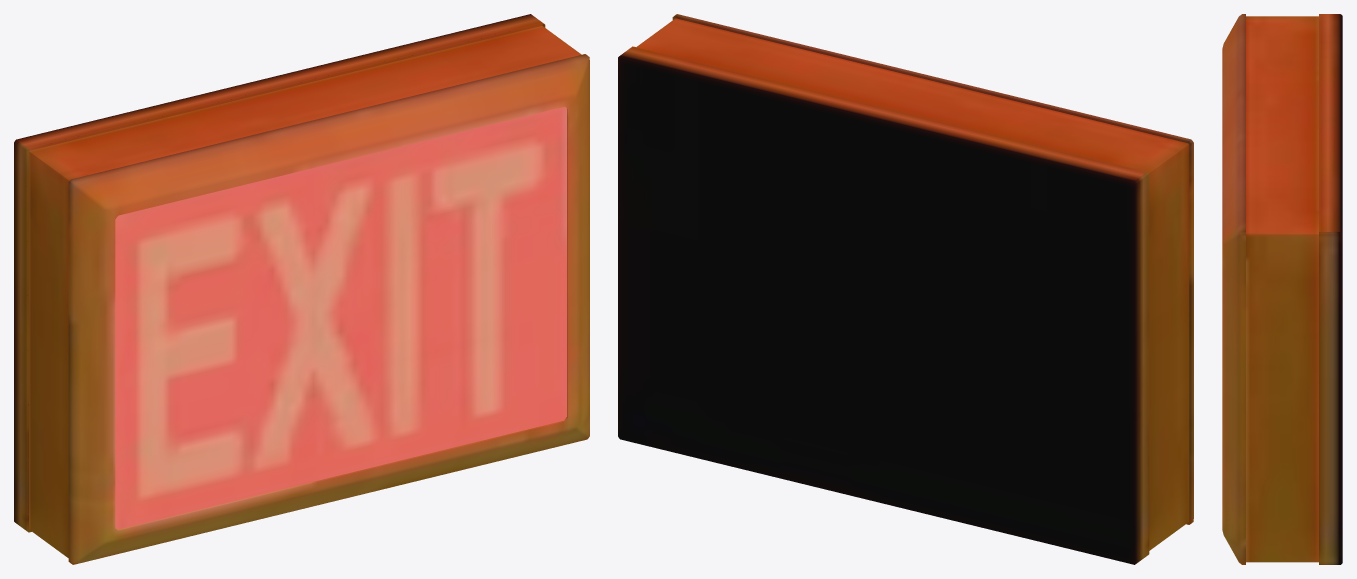
Rendered from exit.glb.
3 views of the same model, side by side, from view 1: azimuth 30°, elevation 25°; view 2: azimuth 150°, elevation 25°; view 3: azimuth 270°, elevation 25° (orthographic). The views are drawn at different scales.
Parts seen in each view (by area): view 1: Object_62, Object_60.002, Object_60.016, Object_60, Object_60.015, Object_60.013, Object_60.004; view 2: Object_60, Object_60.016, Object_60.002, Object_60.011, Object_60.012; view 3: Object_60.016, Object_60, Object_60.002.
Boxes of the visible parts, x1,y1,x2,y2 form: Object_62: (115,106,566,529); Object_60.002: (68,54,589,564); Object_60.016: (28,26,581,557); Object_60: (14,14,542,530); Object_60.015: (29,23,542,150); Object_60.013: (117,108,567,530); Object_60.004: (26,187,28,530); Object_60: (618,46,1149,564); Object_60.016: (636,18,1189,550); Object_60.002: (675,14,1193,523); Object_60.011: (672,15,1191,522); Object_60.012: (1189,144,1191,470); Object_60.016: (1246,16,1318,562); Object_60: (1319,14,1342,564); Object_60.002: (1222,14,1245,564).
Bounding box in the file's own units: 0.2178 × 0.154 × 0.0504.
2 materials, 2 textured.
